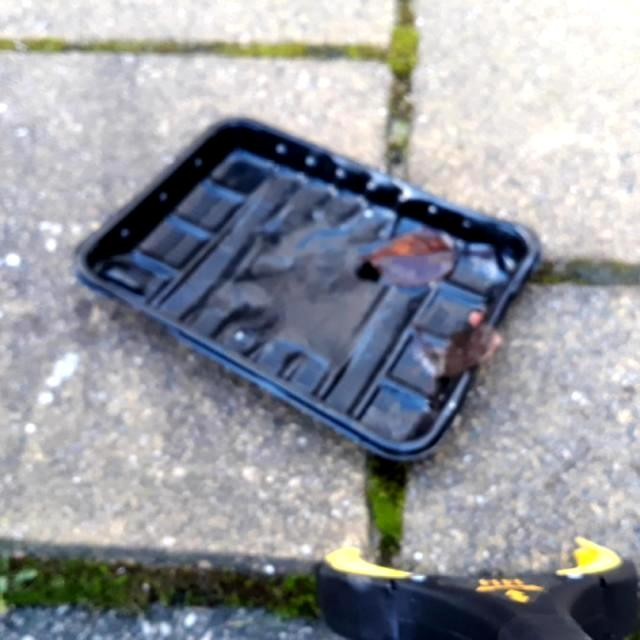Plastic: (68, 110, 542, 467)
